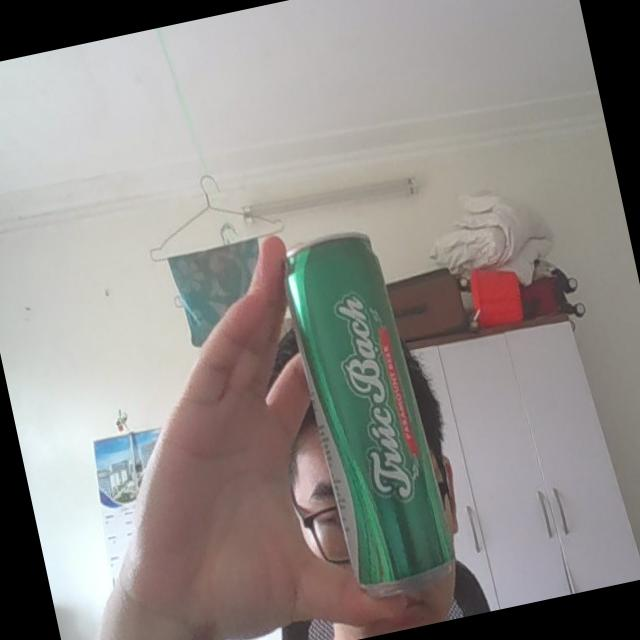Bia-Truc-Bach: (269, 216, 462, 610)
